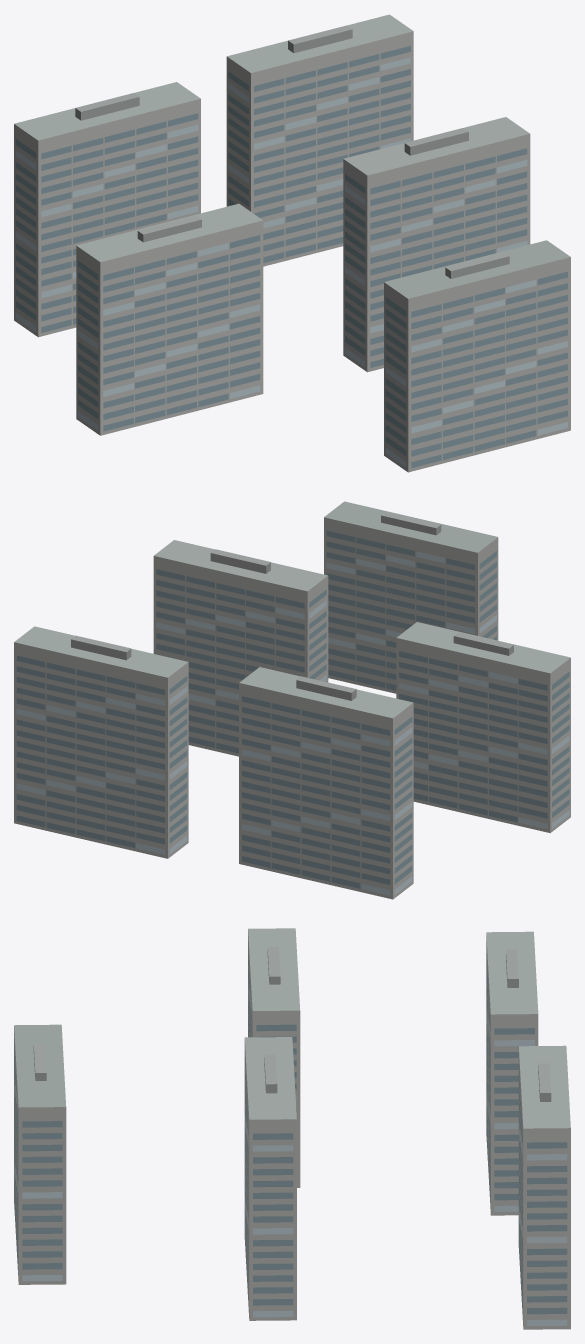
The model's file is apt-a13007004.glb.
3 renders of one model, top to bottom at view 1: azimuth 30°, elevation 25°; view 2: azimuth 150°, elevation 25°; view 3: azimuth 270°, elevation 25°, orthographic. The views are drawn at different scales.
Parts seen in each view (by area): view 1: apt-a13007004; view 2: apt-a13007004; view 3: apt-a13007004.
Part boxes in pixels (x1=…): apt-a13007004: x1=14, y1=14, x2=570, y2=472; apt-a13007004: x1=14, y1=501, x2=570, y2=899; apt-a13007004: x1=14, y1=928, x2=570, y2=1329.
Bounding box in the file's own units: 124 × 54.18 × 130.
